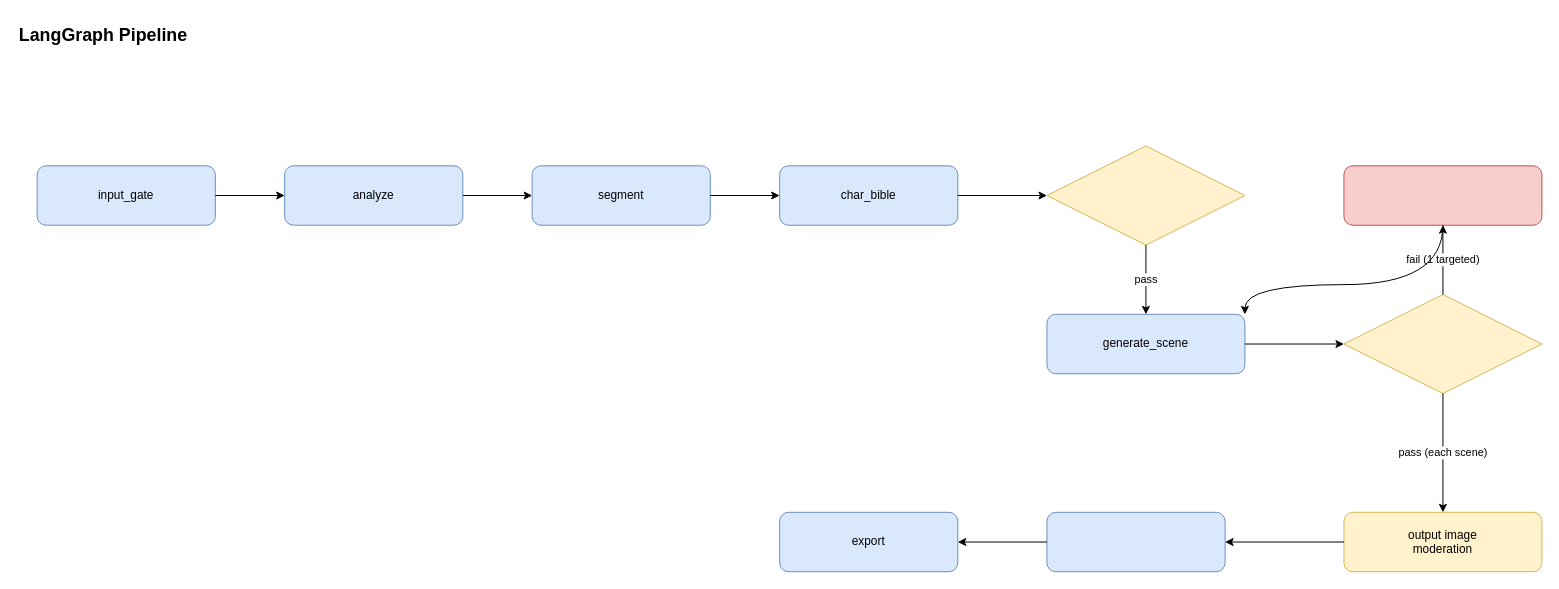
Some shapes in this 1559 by 589 pixel diagram are drawn without their labels. The shapes that lost their labels are listed below. From the top down, each one's centre as x and y in pixels, then its label:
the point at 1145,195: char-ref moderation
the point at 1442,195: regenerate
the point at 1442,344: consistency_check
the point at 1135,541: compose
